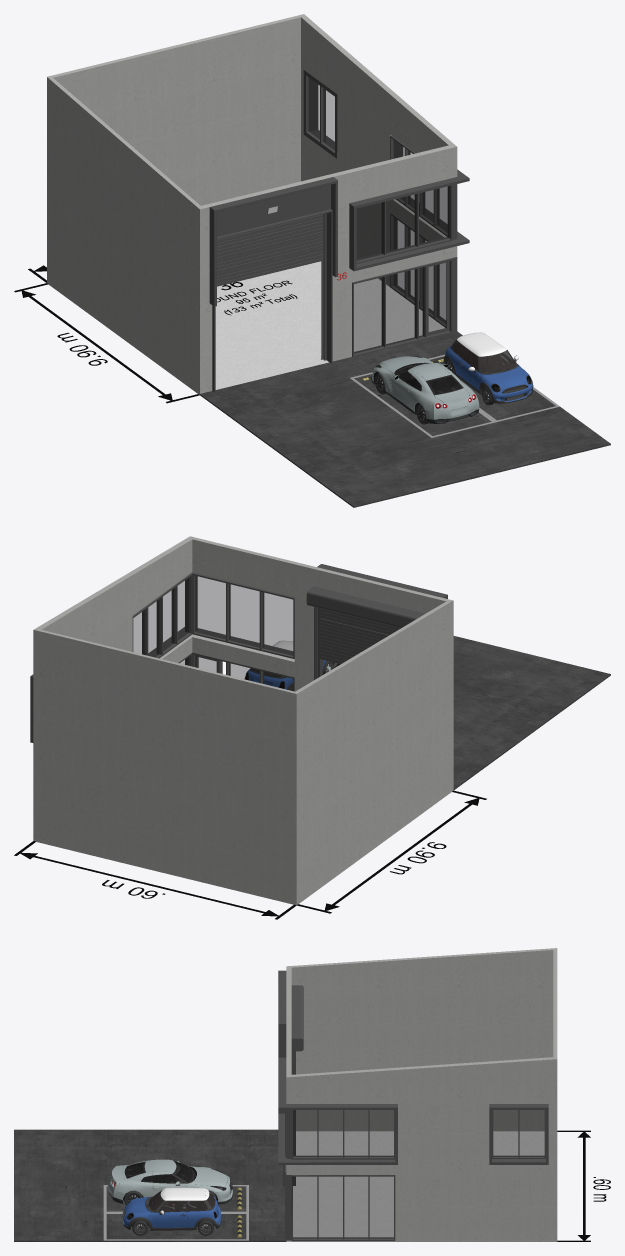
Rendered from Without_Mezzanine.glb.
3 views of the same model, one above another, from view 1: azimuth 30°, elevation 25°; view 2: azimuth 150°, elevation 25°; view 3: azimuth 270°, elevation 25° (orthographic). The views are drawn at different scales.
Parts seen in each view (by area): view 1: Box2131647111, Object1746170056, Object1746170057, Shape382, Box2131647102, Shape383, Segment 006, AM132_033_39.002, AM132_041_25.002, Component#120 [25525]106, Component#121 [25528]106, Rectangle2133403701 (+4 smaller); view 2: Object1746170056, Object1746170057, Shape382, Box2131647111, Box2131647102, Segment 006, Rectangle2133403705, Object1746170048, Rectangle2133403704, DIM_Line_013, AM132_041_25.002, DIM_Line_014 (+1 smaller); view 3: Object1746170057, Shape382, Box2131647111, Box2131647102, Shape383, AM132_041_25.002, AM132_033_39.002, Rectangle2133403701, Rectangle2133403705, Rectangle2133403704, Object1746170048, Component#121 [25528]106 (+3 smaller).
Part boxes in pixels (bbox=[...]): Box2131647111: bbox=[200, 331, 610, 507]; Object1746170056: bbox=[47, 15, 300, 284]; Object1746170057: bbox=[49, 78, 200, 392]; Shape382: bbox=[197, 14, 457, 394]; Box2131647102: bbox=[349, 135, 469, 357]; Shape383: bbox=[215, 261, 444, 389]; Segment 006: bbox=[217, 214, 323, 286]; AM132_033_39.002: bbox=[371, 356, 479, 424]; AM132_041_25.002: bbox=[443, 332, 533, 405]; Component#120 [25525]106: bbox=[217, 184, 330, 236]; Component#121 [25528]106: bbox=[209, 177, 337, 306]; Rectangle2133403701: bbox=[303, 70, 337, 158]; Object1746170056: bbox=[38, 629, 298, 905]; Object1746170057: bbox=[295, 601, 450, 903]; Shape382: bbox=[33, 536, 453, 842]; Box2131647111: bbox=[333, 636, 610, 790]; Box2131647102: bbox=[132, 572, 294, 691]; Segment 006: bbox=[320, 608, 400, 663]; Rectangle2133403705: bbox=[159, 634, 294, 677]; Object1746170048: bbox=[306, 586, 424, 627]; Rectangle2133403704: bbox=[132, 561, 294, 615]; DIM_Line_013: bbox=[14, 841, 296, 919]; AM132_041_25.002: bbox=[244, 640, 334, 690]; DIM_Line_014: bbox=[297, 790, 486, 913]; Object1746170057: bbox=[291, 948, 553, 1131]; Shape382: bbox=[286, 966, 557, 1241]; Box2131647111: bbox=[14, 1129, 286, 1241]; Box2131647102: bbox=[278, 1057, 397, 1241]; Shape383: bbox=[286, 1131, 544, 1241]; AM132_041_25.002: bbox=[122, 1187, 221, 1235]; AM132_033_39.002: bbox=[108, 1159, 232, 1204]; Rectangle2133403701: bbox=[489, 1104, 548, 1164]; Rectangle2133403705: bbox=[286, 1165, 395, 1174]; Rectangle2133403704: bbox=[286, 1095, 395, 1103]; Object1746170048: bbox=[291, 985, 303, 1051]; Component#121 [25528]106: bbox=[278, 970, 286, 1057].
Size of the model in its own units: 12.03 by 7.5 by 22.19.
Materials: 57 (7 with a texture image).
